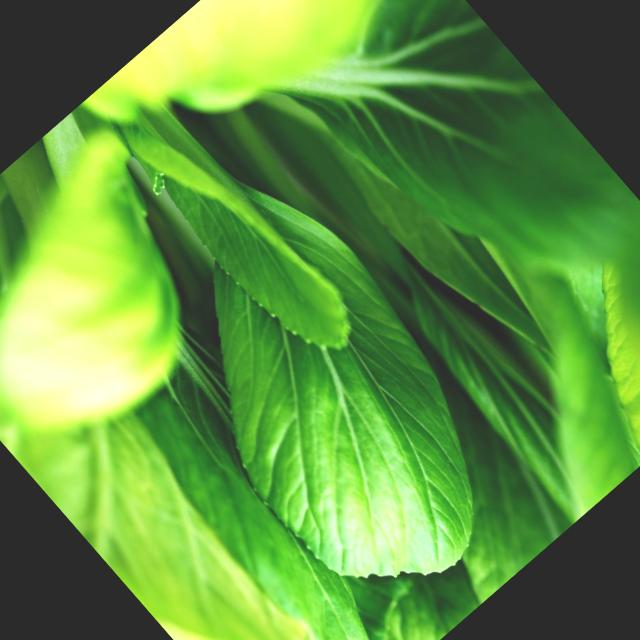pakcoy_sehat: (74, 141, 577, 640)
